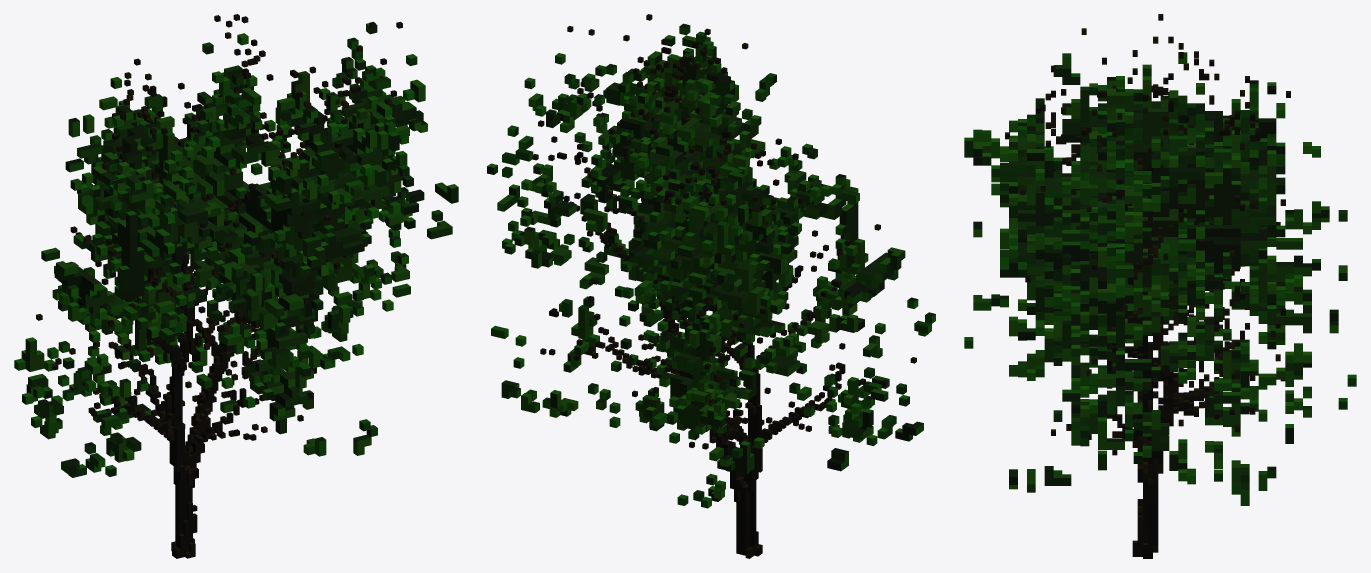
File: small_tree_black.fbx
The picture shows the model from 3 angles, left to right: view 1: azimuth 30°, elevation 25°; view 2: azimuth 150°, elevation 25°; view 3: azimuth 270°, elevation 25°; orthographic projection. The views are drawn at different scales.
Visible parts, largest first — view 1: Tree_LOD_0.001; view 2: Tree_LOD_0.001; view 3: Tree_LOD_0.001.
Boxes of the visible parts, x1,y1,x2,y2 form: Tree_LOD_0.001: [14, 14, 458, 558]; Tree_LOD_0.001: [487, 14, 935, 558]; Tree_LOD_0.001: [964, 14, 1356, 558].
Bounding box in the file's own units: 392 × 461 × 292.
